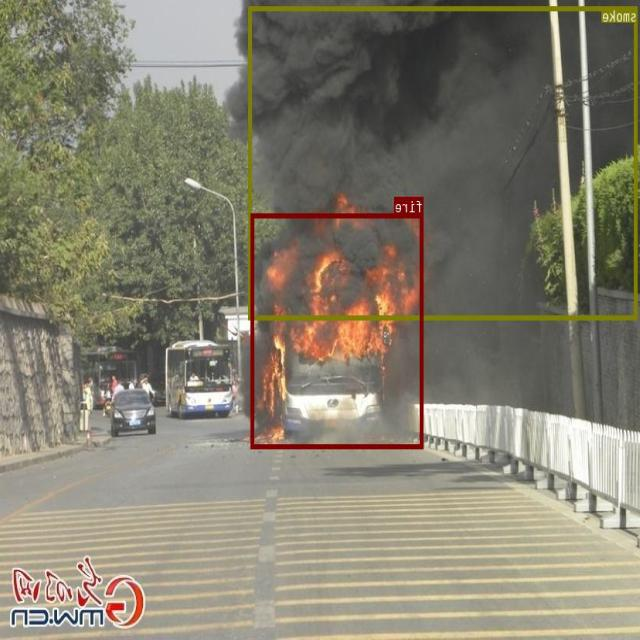fire: (252, 213, 424, 447)
smoke: (249, 5, 638, 319)
